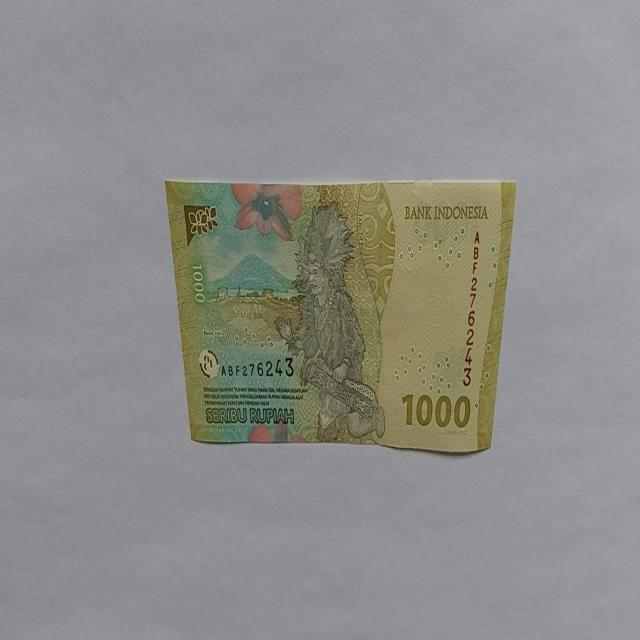seribu rupiah kertas: (164, 176, 516, 452)
